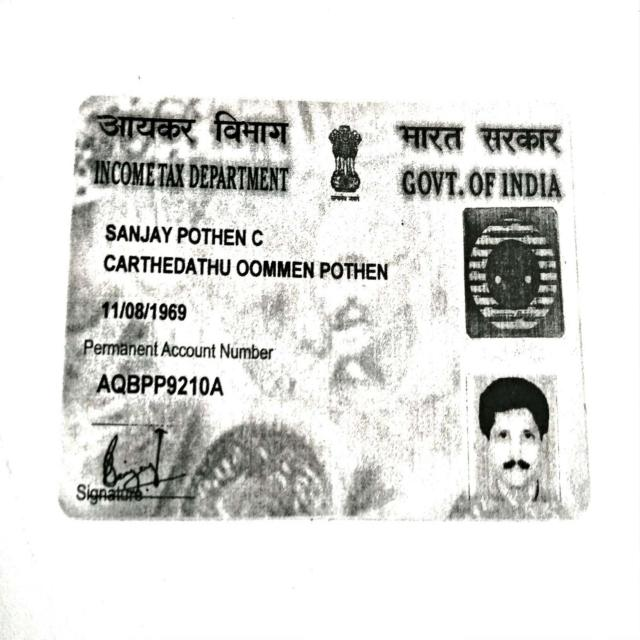pan_card: (57, 100, 591, 522)
